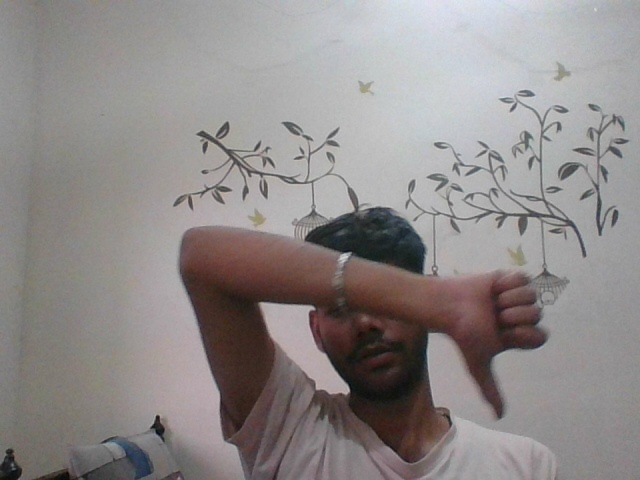No: (433, 249, 547, 429)
